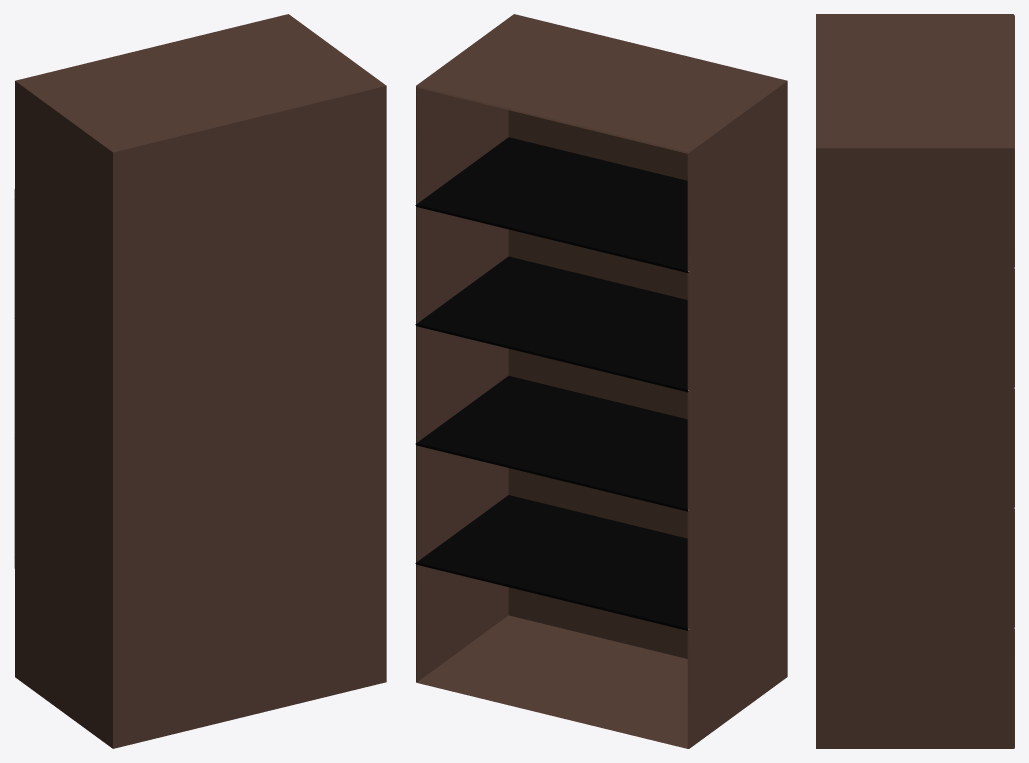
File: Schrank.FBX
The picture shows the model from 3 angles, left to right: view 1: azimuth 30°, elevation 25°; view 2: azimuth 150°, elevation 25°; view 3: azimuth 270°, elevation 25°; orthographic projection.
Parts seen in each view (by area): view 1: Schrank001; view 2: Schrank001; view 3: Schrank001.
Part boxes in pixels (x1,y1,x2,y2): Schrank001: (14, 14, 386, 748); Schrank001: (415, 14, 787, 748); Schrank001: (816, 14, 1014, 748).
Bounding box in the file's own units: 48 × 100 × 30.
